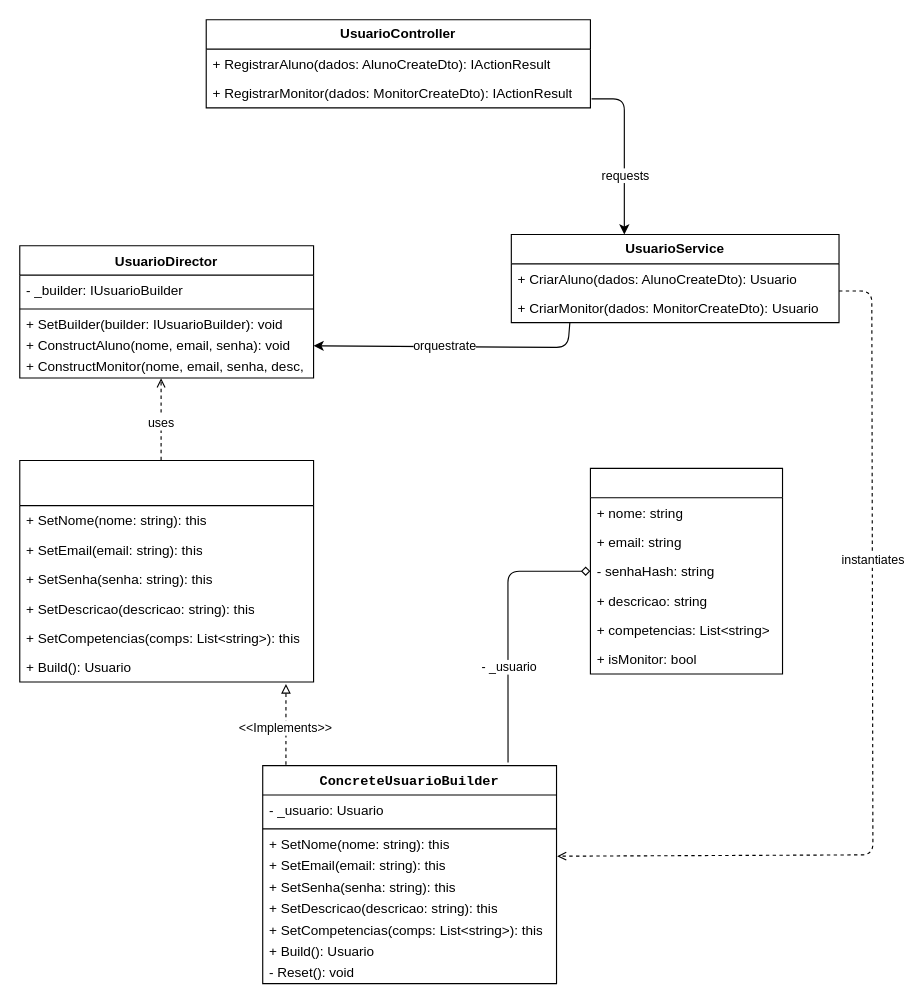
Some shapes in this 924 by 1003 pixel diagram are drawn without their labels. Here are the shapes that lost their labels. From the top down, the box of each, then its label:
(19, 459, 314, 682): <<Interface>> IUsuarioBuilder
(589, 467, 783, 674): Usuario
